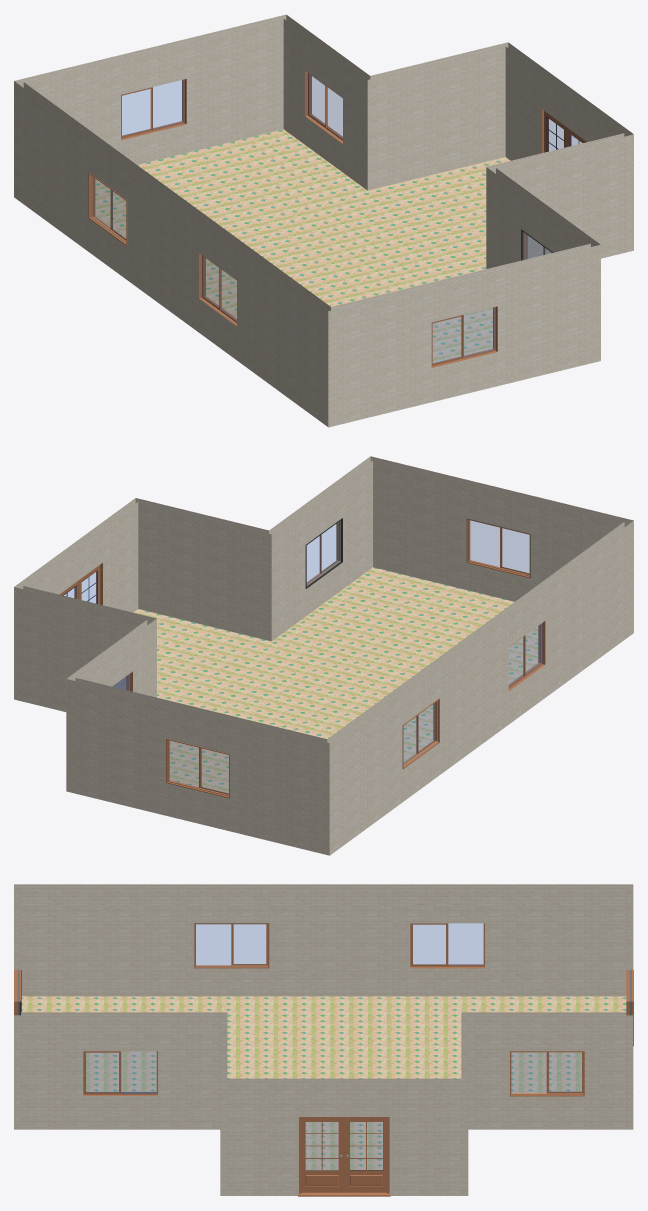
Rendered from telhado35a.gltf.
The picture shows the model from 3 angles, top to bottom: view 1: azimuth 30°, elevation 25°; view 2: azimuth 150°, elevation 25°; view 3: azimuth 270°, elevation 25°; orthographic projection. The views are drawn at different scales.
Visible parts, largest first — view 1: root; view 2: root; view 3: root.
Boxes of the visible parts, bbox=[...] form: root: bbox=[14, 14, 633, 427]; root: bbox=[14, 456, 633, 855]; root: bbox=[14, 884, 633, 1196].
Bounding box in the file's own units: 11.34 × 3.06 × 15.01.
11 materials, 4 textured.
